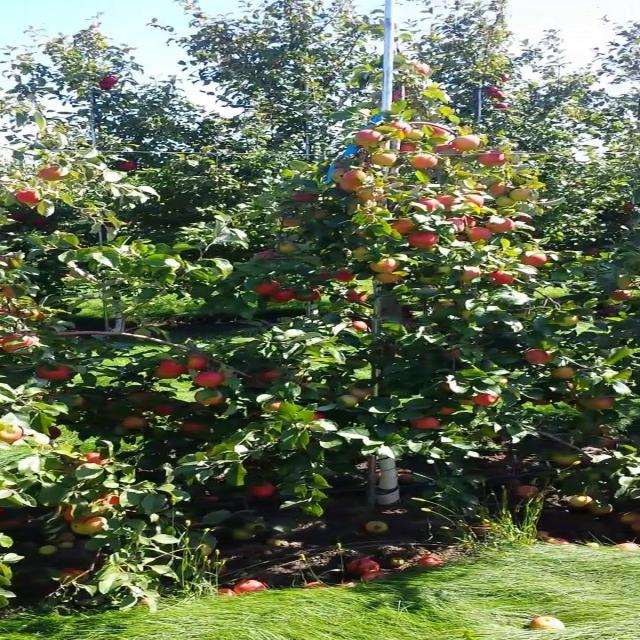apple: (63, 504, 107, 532), (6, 332, 39, 354), (63, 504, 101, 522), (35, 364, 73, 381), (70, 520, 107, 536), (77, 452, 112, 468), (476, 152, 507, 168), (412, 232, 441, 249), (198, 372, 228, 388), (454, 136, 484, 152), (390, 220, 420, 236), (369, 152, 398, 168), (198, 392, 228, 407), (355, 132, 384, 147), (255, 280, 283, 295), (6, 424, 27, 444), (184, 356, 212, 371), (248, 484, 277, 498), (518, 256, 551, 268), (20, 308, 50, 321), (298, 288, 322, 304), (554, 452, 581, 466), (412, 156, 441, 169), (369, 260, 400, 272), (333, 268, 356, 284), (468, 228, 494, 242), (525, 352, 555, 364), (362, 188, 386, 203), (476, 392, 500, 407), (589, 400, 619, 412), (440, 144, 464, 159), (490, 220, 517, 233), (490, 272, 517, 285), (412, 420, 441, 432), (376, 272, 405, 284), (461, 268, 484, 283), (163, 360, 185, 375), (348, 388, 373, 401), (390, 124, 411, 139), (42, 168, 66, 181), (269, 292, 295, 304), (99, 492, 121, 506), (156, 368, 181, 380), (461, 196, 484, 209), (433, 144, 460, 155), (340, 180, 364, 192), (127, 416, 149, 429), (511, 188, 533, 201), (20, 192, 43, 204), (404, 128, 427, 140), (390, 88, 411, 101), (554, 368, 576, 380), (156, 404, 178, 416), (348, 292, 370, 304), (412, 64, 434, 76), (454, 140, 476, 152), (276, 244, 299, 255), (447, 220, 468, 232), (348, 172, 370, 183), (419, 200, 439, 212), (298, 192, 318, 204), (397, 144, 420, 154), (120, 160, 139, 172), (390, 124, 405, 139), (184, 424, 206, 434), (255, 252, 277, 262), (490, 184, 507, 196), (461, 216, 478, 228), (355, 248, 372, 260), (611, 292, 633, 301), (262, 372, 284, 381), (440, 196, 457, 207), (355, 320, 370, 332), (269, 400, 284, 412), (497, 200, 519, 208), (312, 272, 331, 281), (483, 428, 500, 438), (6, 256, 20, 268), (35, 216, 50, 227), (49, 428, 64, 439), (284, 220, 304, 228), (312, 212, 332, 220), (99, 80, 119, 88), (433, 128, 450, 137), (333, 164, 352, 172), (440, 408, 457, 416), (582, 248, 599, 256), (312, 412, 327, 421), (532, 400, 551, 407), (13, 212, 27, 221), (518, 216, 533, 224), (447, 352, 462, 360), (6, 288, 16, 299), (6, 308, 20, 315), (454, 236, 469, 242), (625, 204, 635, 211)
